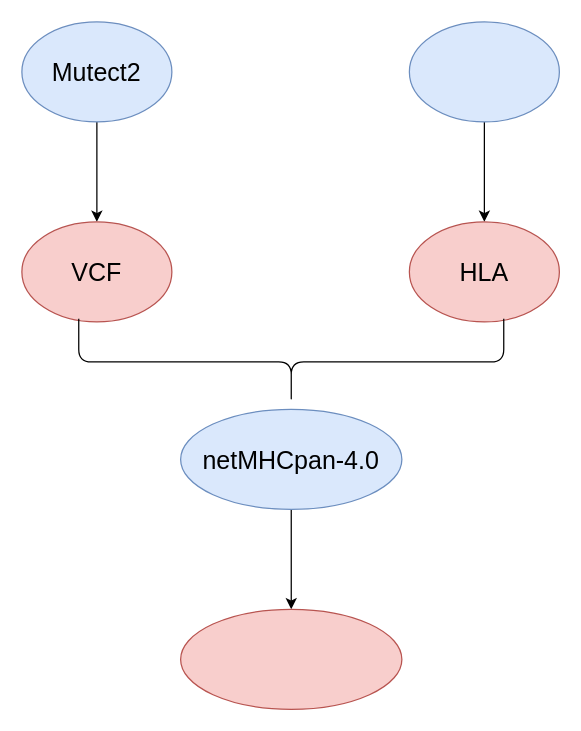
Image size: 581x731. Some labels were removed from this diagram. Each missing label, with the centre of its shape:
"Candidate neoantigens" goes at (290,658).
"Polysolver" goes at (483,71).
